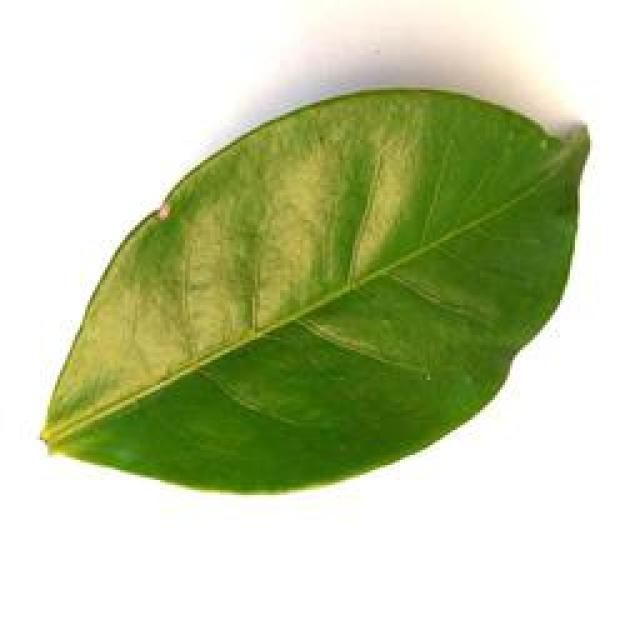Healthy: (40, 82, 597, 499)
